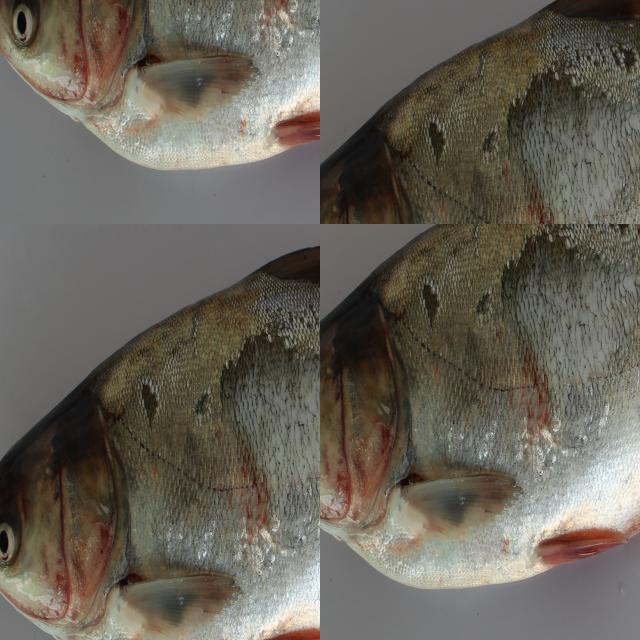fish: (320, 224, 640, 561)
